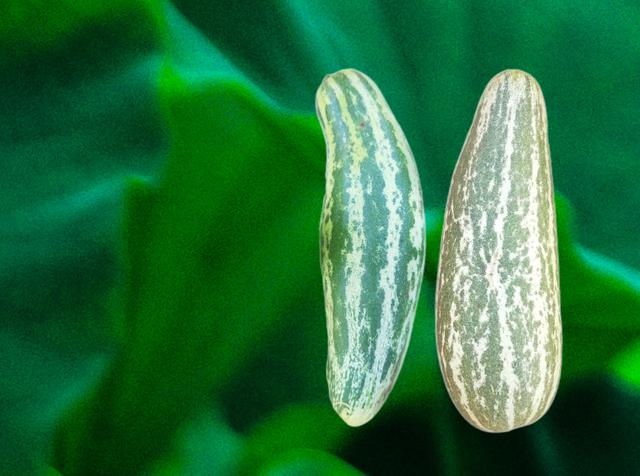cucumber: (434, 68, 562, 432), (314, 67, 425, 426)
